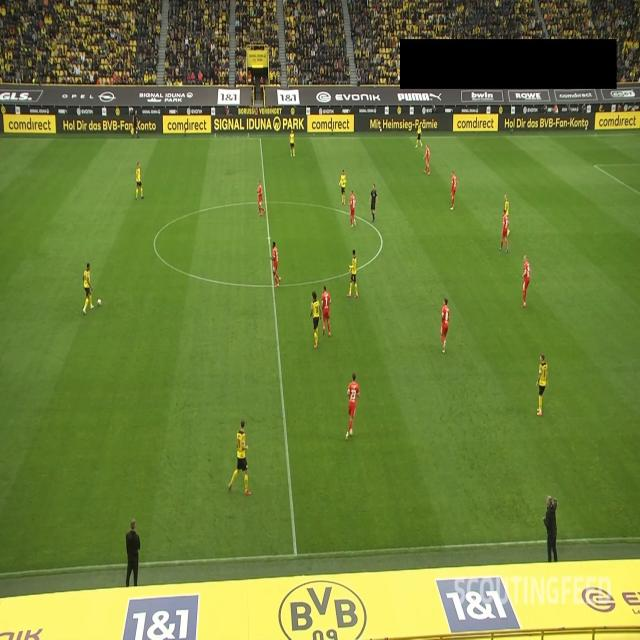ball: (96, 297, 102, 308)
